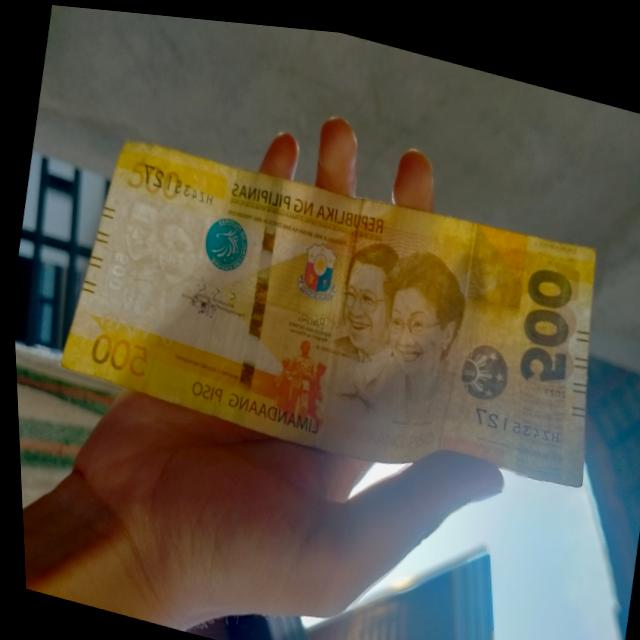concealed_value: (457, 210, 533, 307)
optically_variable_device: (437, 317, 522, 409)
security_thread: (221, 168, 292, 424)
see_through_mark: (89, 303, 183, 355)
value_watermark: (100, 241, 134, 295)
watermark: (92, 172, 216, 343)
